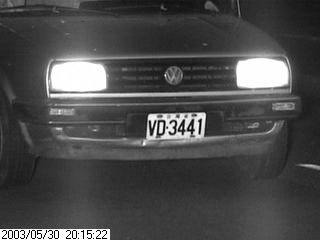plate: (146, 108, 207, 142)
